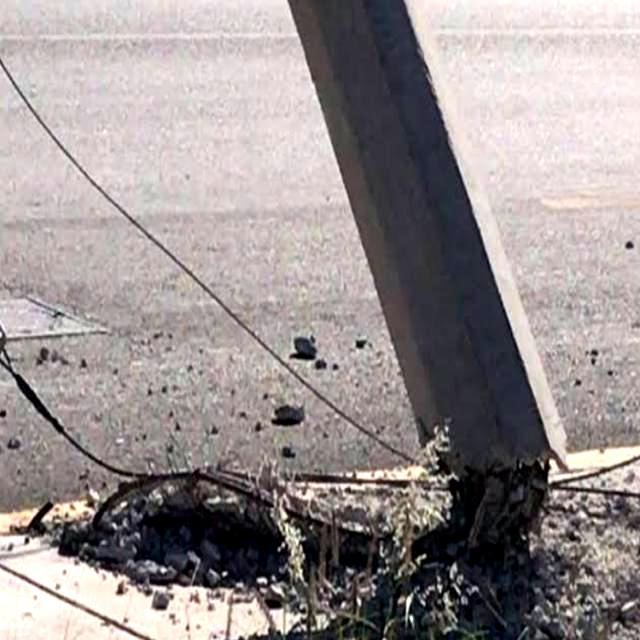Broken Pole: (60, 0, 572, 593)
